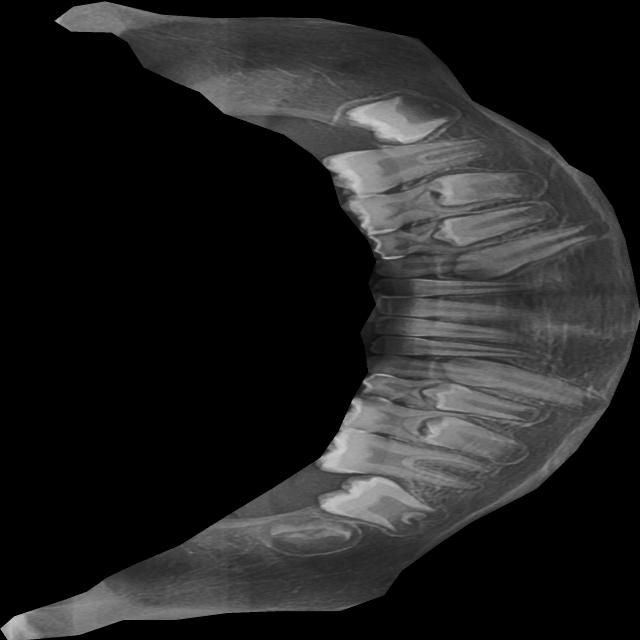mandibula: (0, 0, 640, 640)
